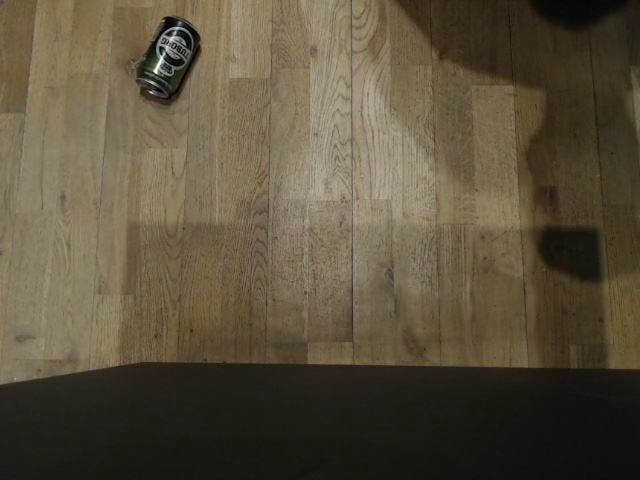beer: (131, 12, 203, 102)
